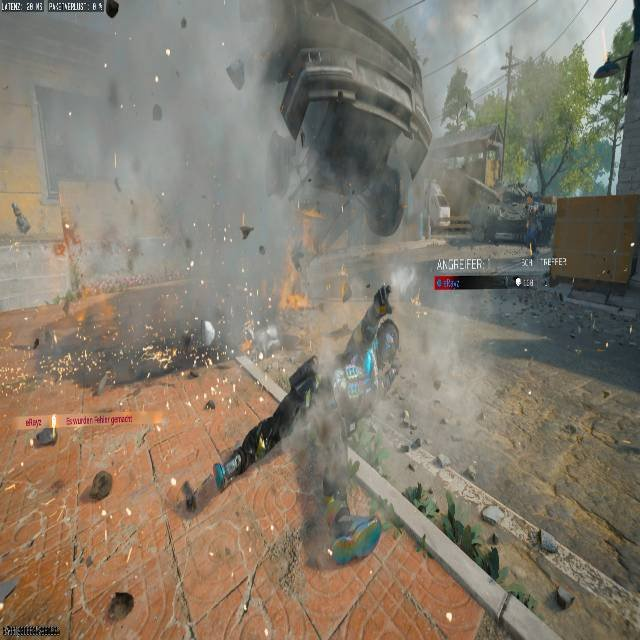player: (337, 264, 350, 302)
